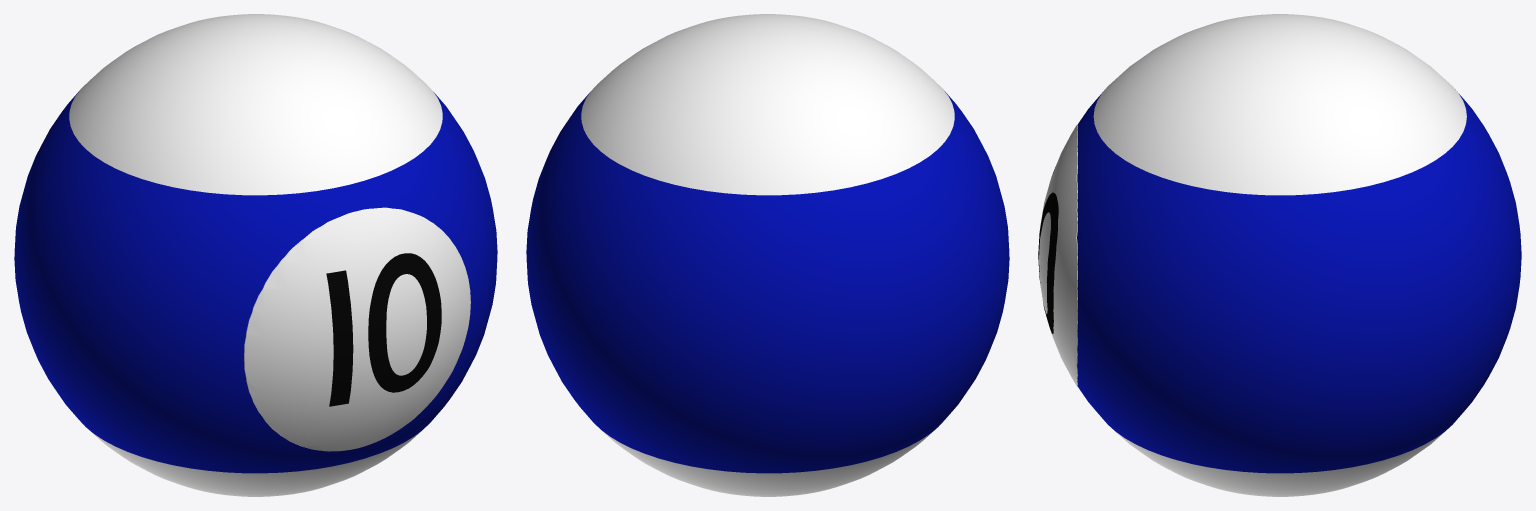
Rendered from Ball10.fbx.
3 views of the same model, side by side, from view 1: azimuth 30°, elevation 25°; view 2: azimuth 150°, elevation 25°; view 3: azimuth 270°, elevation 25° (orthographic).
Parts seen in each view (by area): view 1: Ball10; view 2: Ball10; view 3: Ball10.
Boxes of the visible parts, x1,y1,x2,y2 form: Ball10: (14,14,497,496); Ball10: (526,14,1009,496); Ball10: (1038,14,1521,496).
Bounding box in the file's own units: 5.7 × 5.7 × 5.7.
